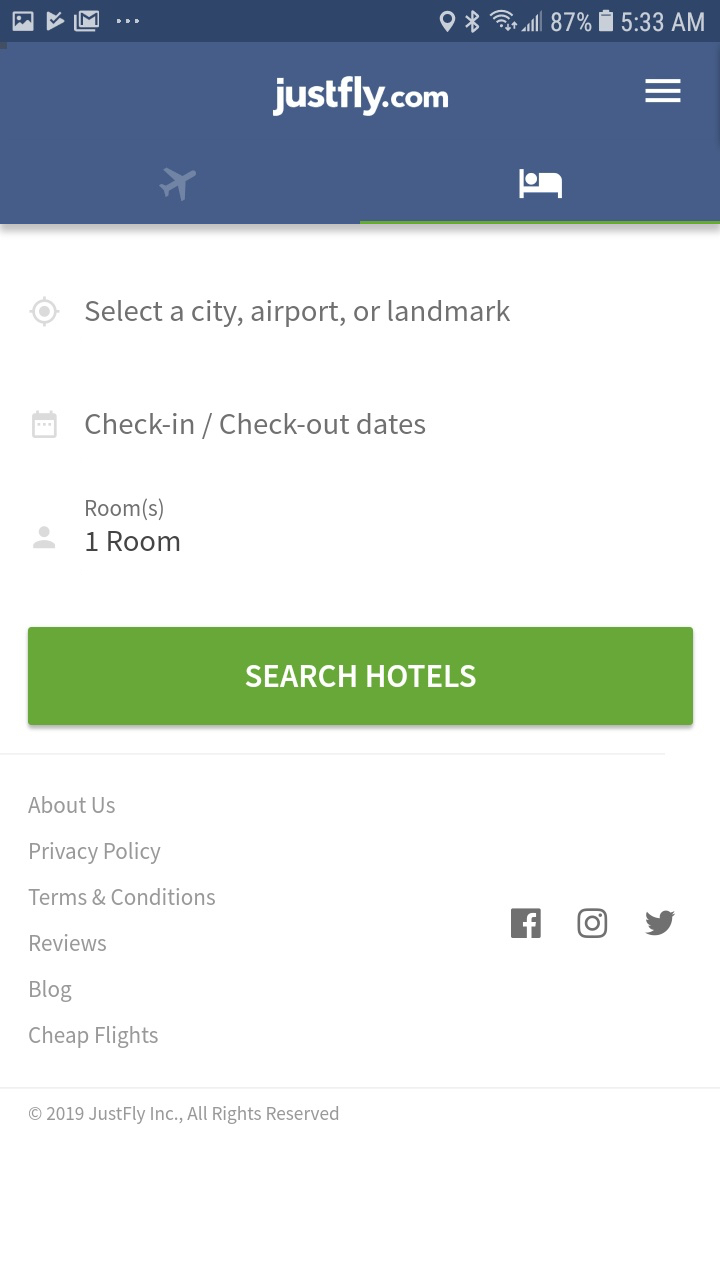Icon: (29, 296, 61, 328), (511, 907, 542, 939), (644, 79, 682, 105), (577, 908, 608, 939), (644, 909, 676, 936), (32, 410, 58, 439), (33, 526, 57, 549)
Image: (158, 167, 198, 203), (518, 169, 563, 200)
Text: (85, 300, 511, 329), (85, 413, 426, 441), (272, 76, 449, 118), (29, 1105, 339, 1125), (29, 887, 217, 906), (29, 1025, 159, 1049), (30, 842, 162, 865), (87, 531, 181, 553), (86, 498, 164, 522), (28, 795, 117, 814), (31, 933, 108, 952), (30, 979, 73, 1003)
TextButton: (28, 626, 693, 726)
UpperTaskBar: (1, 1, 720, 43)
